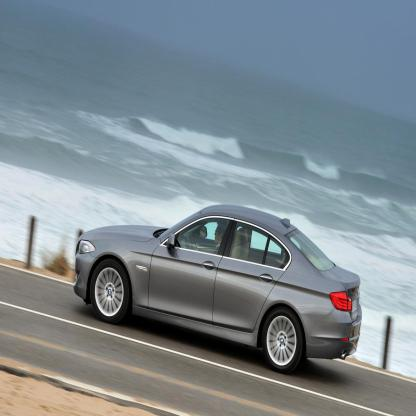Vehicle: (68, 203, 369, 381)
